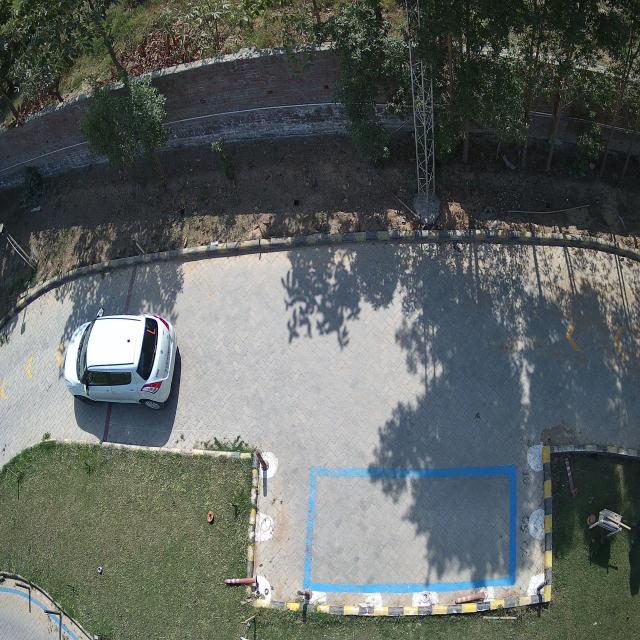car: (64, 312, 176, 408)
